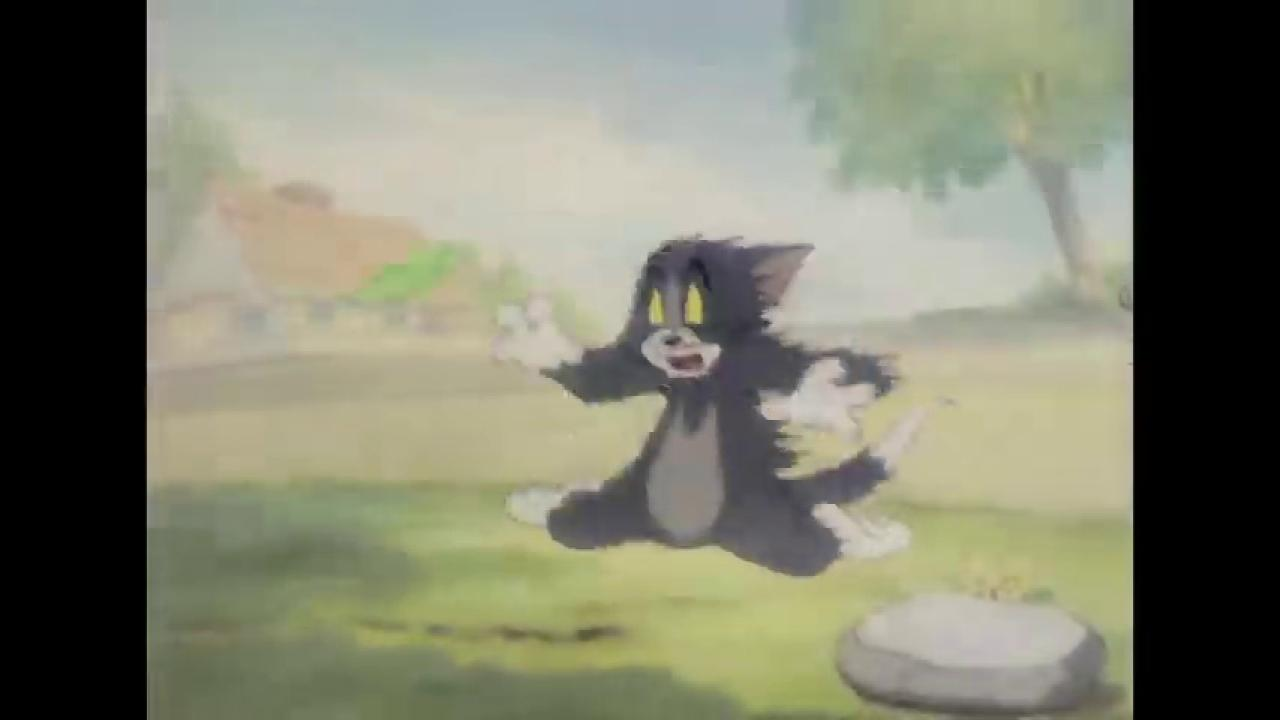Tom: (486, 230, 931, 581)
